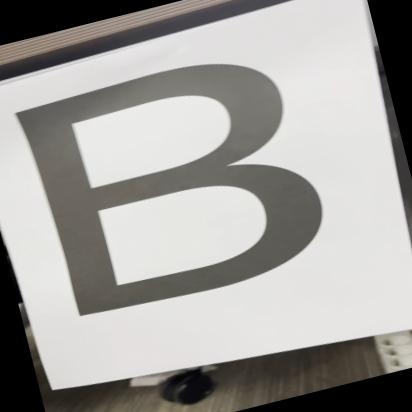seat: (0, 29, 344, 347)
